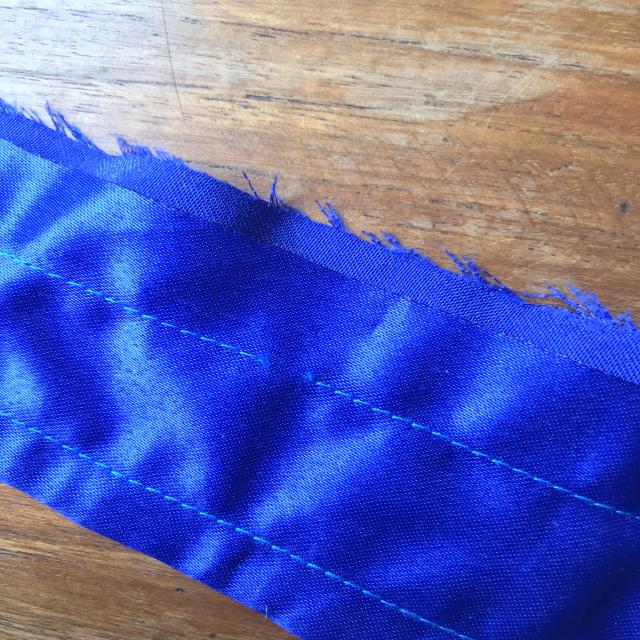broken: (238, 328, 348, 402)
good: (439, 415, 564, 495)
